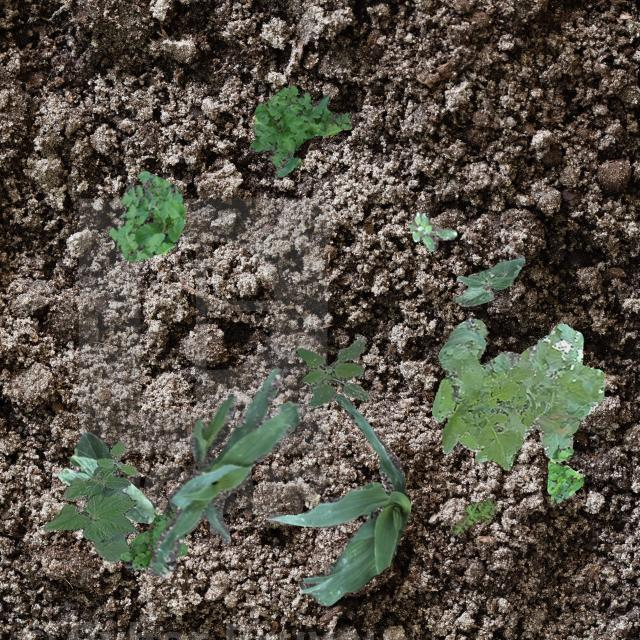crop: (147, 366, 300, 576), (264, 392, 410, 604), (56, 430, 156, 522), (42, 466, 136, 562), (454, 254, 524, 304)
weed: (431, 318, 604, 458), (441, 366, 548, 468), (248, 84, 350, 175), (108, 170, 184, 260), (294, 336, 368, 406), (118, 500, 188, 570), (546, 444, 582, 502), (406, 210, 456, 250), (448, 498, 496, 534), (96, 438, 138, 474)
